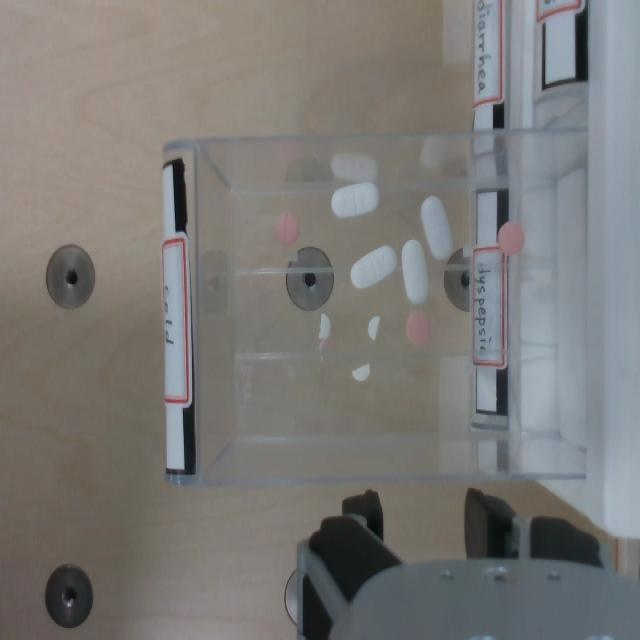amoxicle_tab: (420, 196, 452, 259), (350, 245, 396, 288), (401, 239, 428, 304), (331, 183, 378, 217)
panstar_tab: (497, 220, 524, 255), (405, 311, 430, 345), (276, 213, 298, 244)
sudafed_tab: (351, 364, 370, 381), (319, 313, 330, 340), (368, 316, 380, 340)
